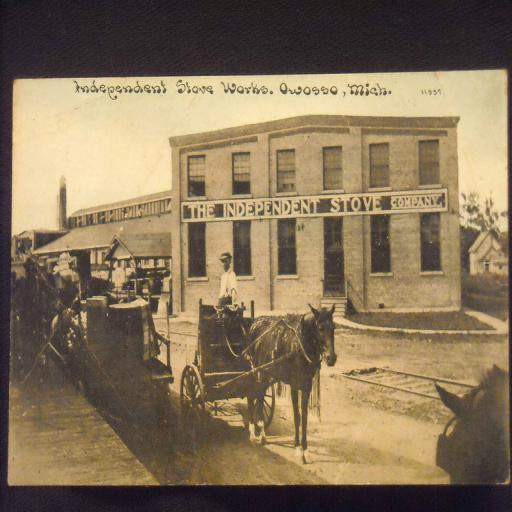horse: (244, 300, 336, 467), (435, 364, 512, 490)
